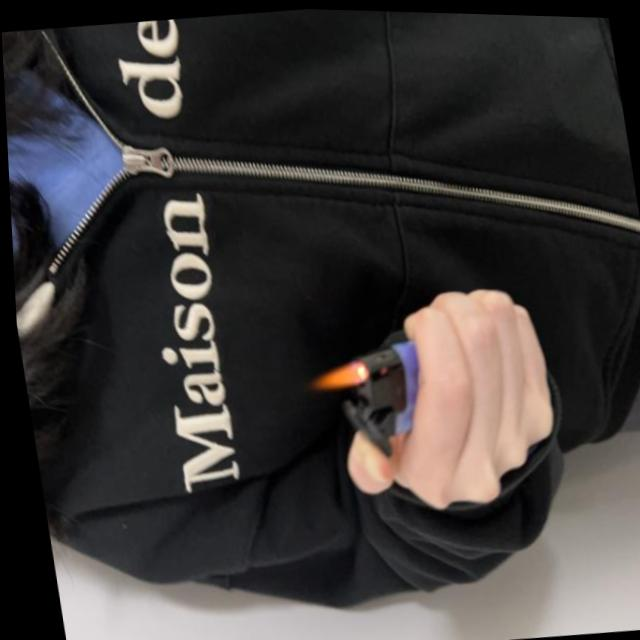Fire: (302, 355, 366, 393)
